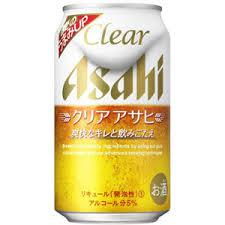beer: (51, 4, 174, 223)
